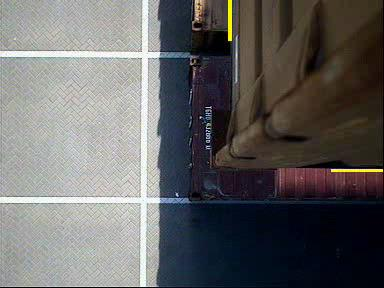groundmarker_2: (66, 89, 156, 152)
